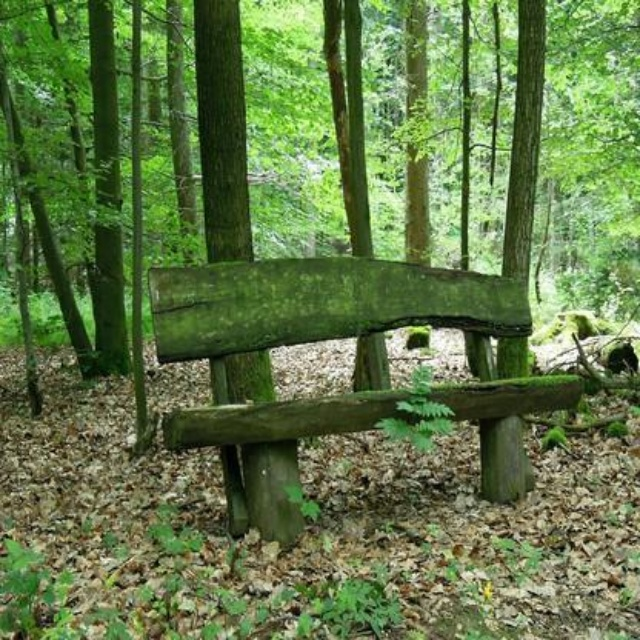obstacle: (135, 263, 577, 546)
